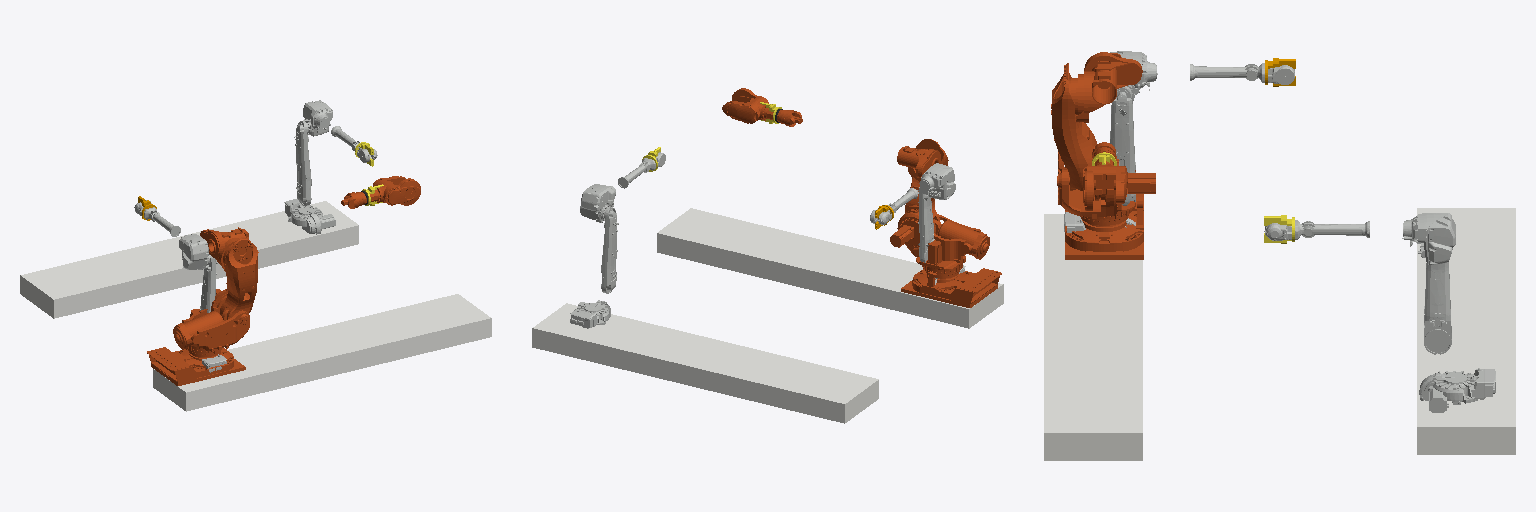
--- What the picture shows (computed from the rendered views, not written in the file) ---
Views: 3 orthographic renders of the robot side by side, from view 1: azimuth 30°, elevation 25°; view 2: azimuth 150°, elevation 25°; view 3: azimuth 270°, elevation 25°.
Robot: princeton_3rob_cell — 39 links, 38 joints (18 revolute, 2 prismatic, 18 fixed); root link world; default pose: every joint at zero.
Links seen in each view (by area): view 1: r2_axis, r1_axis, r3_link_2, r3_base_link, r3_link_1, r3_link_4, r1_link_2, r2_link_3, r3_link_3, r3_balancer_piston, r1_link_3, r2_link_2 (+1 smaller); view 2: r1_axis, r2_axis, r3_link_1, r3_base_link, r3_link_4, r1_link_2, r2_link_3, r1_link_3, r3_balancer_piston, r3_link_3, r2_link_2, r1_base_link (+1 smaller); view 3: r2_axis, r1_axis, r3_base_link, r3_link_3, r3_link_2, r3_link_1, r1_link_2, r1_link_3, r3_link_4, r2_link_2, r1_base_link, r2_link_4 (+3 smaller).
Boxes of the visible links, <box> form: r2_axis: <box>153,294,491,411</box>; r1_axis: <box>20,201,358,318</box>; r3_link_2: <box>220,238,258,322</box>; r3_base_link: <box>147,347,245,385</box>; r3_link_1: <box>182,289,249,356</box>; r3_link_4: <box>346,176,420,208</box>; r1_link_2: <box>294,121,311,205</box>; r2_link_3: <box>179,234,209,269</box>; r3_link_3: <box>200,227,248,271</box>; r3_balancer_piston: <box>173,310,228,349</box>; r1_link_3: <box>303,100,332,136</box>; r2_link_2: <box>200,254,217,312</box>; r1_axis: <box>532,303,878,423</box>; r2_axis: <box>657,208,1003,328</box>; r3_link_1: <box>890,209,982,278</box>; r3_base_link: <box>901,268,1001,307</box>; r3_link_4: <box>722,88,796,126</box>; r1_link_2: <box>601,207,618,293</box>; r2_link_3: <box>919,163,955,199</box>; r1_link_3: <box>580,184,615,222</box>; r3_balancer_piston: <box>933,219,989,259</box>; r3_link_3: <box>897,146,940,181</box>; r2_link_2: <box>917,187,934,262</box>; r1_base_link: <box>570,303,609,327</box>; r2_axis: <box>1044,214,1142,460</box>; r1_axis: <box>1417,208,1515,454</box>; r3_base_link: <box>1065,194,1143,259</box>; r3_link_3: <box>1069,52,1142,122</box>; r3_link_2: <box>1051,63,1099,200</box>; r3_link_1: <box>1057,152,1155,225</box>; r1_link_2: <box>1424,262,1451,354</box>; r1_link_3: <box>1402,213,1455,264</box>; r3_link_4: <box>1083,142,1127,210</box>; r2_link_2: <box>1110,86,1135,205</box>; r1_base_link: <box>1433,368,1495,403</box>; r2_link_4: <box>1190,63,1294,84</box>.
Bounding box of the posed robot: 5.21 × 4.63 × 2.59 m (x, y, z).
27 mesh visuals loaded from 19 distinct referenced files (17 binary STL); not drawn: 2 (reference not matched to a file when rendering).

URDF robot description (princeton_3rob_cell):
<?xml version="1.0" ?>
<!-- =================================================================================== -->
<!-- |    This document was autogenerated by xacro from princeton_3rob_cell.xacro      | -->
<!-- |    EDITING THIS FILE BY HAND IS NOT RECOMMENDED                                 | -->
<!-- =================================================================================== -->
<robot name="princeton_3rob_cell">
  <!-- Conversion were obtained from http://www.e-paint.co.uk/Lab_values.asp
       unless otherwise stated. -->
  <link name="world"/>
  <!-- -->
  <!--ROBOT 1-->
  <joint name="r1_world_joint" type="fixed">
    <parent link="world"/>
    <child link="r1_axis"/>
    <origin rpy="0.0 0.0 3.14159" xyz="3.70 3.45 0.02"/>
  </joint>
  <!-- Conversion were obtained from http://www.e-paint.co.uk/Lab_values.asp
       unless otherwise stated. -->
  <!-- Conversion were obtained from http://www.e-paint.co.uk/Lab_values.asp
       unless otherwise stated. -->
  <!-- LINEAR AXIS -->
  <!-- linear axis link list -->
  <link name="r1_axis">
    <inertial>
      <origin xyz="0.0 0.0 0.0"/>
      <mass value="120"/>
      <inertia ixx="-4.98000" ixy="-0.00000" ixz="2.70000" iyy="-5.95200" iyz="-0.00000" izz="0.82800"/>
    </inertial>
    <visual>
      <geometry>
        <mesh filename="package://princeton_cell/meshes/visual/axis.stl"/>
      </geometry>
      <material name="">
        <color rgba="0.9254902 0.9254902 0.9058824 1"/>
      </material>
    </visual>
    <collision>
      <geometry>
        <mesh filename="package://princeton_cell/meshes/collision/axis.stl"/>
      </geometry>
    </collision>
  </link>
  <link name="r1_cart">
    <inertial>
      <origin xyz="0.0 0.0 0.0"/>
      <mass value="120.00000"/>
      <inertia ixx="-4.98000" ixy="-0.00000" ixz="2.70000" iyy="-5.95200" iyz="-0.00000" izz="0.82800"/>
    </inertial>
    <visual>
      <geometry>
        <mesh filename="package://princeton_cell/meshes/visual/cart.stl"/>
      </geometry>
      <material name="">
        <color rgba="0.9254902 0.9254902 0.9058824 1"/>
      </material>
    </visual>
    <collision>
      <geometry>
        <mesh filename="package://princeton_cell/meshes/collision/cart.stl"/>
      </geometry>
    </collision>
  </link>
  <!-- linear axis joint list -->
  <joint name="r1_cart_joint" type="prismatic">
    <parent link="r1_axis"/>
    <child link="r1_cart"/>
    <origin rpy="0 0 0 " xyz="0 0 0"/>
    <axis xyz="1 0 0"/>
    <limit effort="100000" lower="0" upper="3.9" velocity="2.618"/>
    <dynamics damping="0.2" friction="0"/>
  </joint>
  <joint name="r1_abb_joint" type="fixed">
    <parent link="r1_cart"/>
    <child link="r1_base_link"/>
    <origin rpy="0 0 1.5707963267948966 " xyz="0 0 0 "/>
    <dynamics damping="0.2" friction="0"/>
  </joint>
  <!-- ARE WE MISSING A WORLD TO AXIS fixed joint? for only the abb_on_axis group?-->
  <!-- GRIPPER -->
  <!-- gripper link list -->
  <link name="r1_gripper">
    <visual>
      <geometry>
        <mesh filename="package://abb_irb4600_40_255/meshes/visual/gripper.stl"/>
      </geometry>
    </visual>
    <collision>
      <geometry>
        <mesh filename="package://abb_irb4600_40_255/meshes/collision/gripper.stl"/>
      </geometry>
    </collision>
  </link>
  <link name="r1_tcp"/>
  <!-- gripper joint list -->
  <joint name="r1_gripper_joint" type="fixed">
    <parent link="r1_tool0"/>
    <child link="r1_gripper"/>
    <origin rpy="0 0 0" xyz="0 0 0"/>
  </joint>
  <joint name="r1_tcp_joint" type="fixed">
    <origin rpy="0 0 0" xyz="0 0 0.352"/>
    <parent link="r1_gripper"/>
    <child link="r1_tcp"/>
  </joint>
  <!-- IRB4600 -->
  <!-- irb4600 link list -->
  <link name="r1_base_link">
    <inertial>
      <origin xyz="0.0 0.0 0.0"/>
      <mass value="120.00000"/>
      <inertia ixx="-4.98000" ixy="-0.00000" ixz="2.70000" iyy="-5.95200" iyz="-0.00000" izz="0.82800"/>
    </inertial>
    <visual>
      <geometry>
        <mesh filename="package://abb_irb4600_40_255/meshes/visual/base_link.stl"/>
      </geometry>
      <material name="">
        <color rgba="0.7725490 0.7803922 0.7686275 1"/>
      </material>
    </visual>
    <collision>
      <geometry>
        <mesh filename="package://abb_irb4600_40_255/meshes/collision/base_link.stl"/>
      </geometry>
    </collision>
  </link>
  <link name="r1_link_1">
    <inertial>
      <origin xyz="0.18000 0.00000 0.50000"/>
      <mass value="120.00000"/>
      <inertia ixx="-4.98000" ixy="-0.00000" ixz="2.70000" iyy="-5.95200" iyz="-0.00000" izz="0.82800"/>
    </inertial>
    <visual>
      <geometry>
        <mesh filename="package://abb_irb4600_40_255/meshes/visual/link_1.stl"/>
      </geometry>
      <material name="">
        <color rgba="0.7725490 0.7803922 0.7686275 1"/>
      </material>
    </visual>
    <collision>
      <geometry>
        <mesh filename="package://abb_irb4600_40_255/meshes/collision/link_1.stl"/>
      </geometry>
    </collision>
  </link>
  <link name="r1_link_2">
    <inertial>
      <origin xyz="0.94000 0.08000 -0.34000"/>
      <mass value="120.00000"/>
      <inertia ixx="-2.96000" ixy="2.25600" ixz="-9.58800" iyy="-18.72601" iyz="-0.81600" izz="-14.95000"/>
    </inertial>
    <visual>
      <geometry>
        <mesh filename="package://abb_irb4600_40_255/meshes/visual/link_2.stl"/>
      </geometry>
      <material name="">
        <color rgba="0.7725490 0.7803922 0.7686275 1"/>
      </material>
    </visual>
    <collision>
      <geometry>
        <mesh filename="package://abb_irb4600_40_255/meshes/collision/link_2.stl"/>
      </geometry>
    </collision>
  </link>
  <link name="r1_link_3">
    <inertial>
      <origin xyz="0.07000 -0.26600 0.08800"/>
      <mass value="120.00000"/>
      <inertia ixx="1.34500" ixy="-0.55860" ixz="0.18480" iyy="4.65068" iyz="-0.70224" izz="2.76032"/>
    </inertial>
    <visual>
      <geometry>
        <mesh filename="package://abb_irb4600_40_255/meshes/visual/link_3.stl"/>
      </geometry>
      <material name="">
        <color rgba="0.7725490 0.7803922 0.7686275 1"/>
      </material>
    </visual>
    <collision>
      <geometry>
        <mesh filename="package://abb_irb4600_40_255/meshes/collision/link_3.stl"/>
      </geometry>
    </collision>
  </link>
  <link name="r1_link_4">
    <inertial>
      <origin xyz="0.00000 0.00000 1.00000"/>
      <mass value="40.00000"/>
      <inertia ixx="-8.00000" ixy="-0.00000" ixz="-0.00000" iyy="-8.00000" iyz="-0.00000" izz="0.48200"/>
    </inertial>
    <visual>
      <geometry>
        <mesh filename="package://abb_irb4600_40_255/meshes/visual/link_4.stl"/>
      </geometry>
      <material name="">
        <color rgba="0.7725490 0.7803922 0.7686275 1"/>
      </material>
    </visual>
    <collision>
      <geometry>
        <mesh filename="package://abb_irb4600_40_255/meshes/collision/link_4.stl"/>
      </geometry>
    </collision>
  </link>
  <link name="r1_link_5">
    <inertial>
      <origin xyz="0.14000 0.00000 0.00000"/>
      <mass value="10.00000"/>
      <inertia ixx="0.04000" ixy="-0.00000" ixz="-0.00000" iyy="-0.00900" iyz="-0.00000" izz="-0.00400"/>
    </inertial>
    <visual>
      <geometry>
        <mesh filename="package://abb_irb4600_40_255/meshes/visual/link_5.stl"/>
      </geometry>
      <material name="">
        <color rgba="0.7725490 0.7803922 0.7686275 1"/>
      </material>
    </visual>
    <collision>
      <geometry>
        <mesh filename="package://abb_irb4600_40_255/meshes/collision/link_5.stl"/>
      </geometry>
    </collision>
  </link>
  <link name="r1_link_6">
    <inertial>
      <origin xyz="0.08100 -0.09100 0.33200"/>
      <mass value="5.00000"/>
      <inertia ixx="-0.29652" ixy="-0.03686" ixz="0.09396" iyy="-0.28792" iyz="-0.10556" izz="-0.04621"/>
    </inertial>
    <visual>
      <geometry>
        <mesh filename="package://abb_irb4600_40_255/meshes/visual/link_6.stl"/>
      </geometry>
      <material name="">
        <color rgba="0.1882353 0.1960784 0.2039216 1"/>
      </material>
    </visual>
    <collision>
      <geometry>
        <mesh filename="package://abb_irb4600_40_255/meshes/collision/link_6.stl"/>
      </geometry>
    </collision>
  </link>
  <link name="r1_tool0"/>
  <!-- irb4600 joint list -->
  <joint name="r1_joint_1" type="revolute">
    <parent link="r1_base_link"/>
    <child link="r1_link_1"/>
    <origin rpy="0 0 0 " xyz="0 0 0"/>
    <axis xyz="0 0 1"/>
    <limit effort="100000" lower="-3.14159" upper="3.14159" velocity="2.618"/>
    <dynamics damping="0.2" friction="0"/>
  </joint>
  <joint name="r1_joint_2" type="revolute">
    <parent link="r1_link_1"/>
    <child link="r1_link_2"/>
    <origin rpy="0 -0 0 " xyz="0.175 0 0.495"/>
    <axis xyz="0 1 0"/>
    <limit effort="100000" lower="-1.5708" upper="2.61799" velocity="2.618"/>
    <dynamics damping="0.2" friction="0"/>
  </joint>
  <joint name="r1_joint_3" type="revolute">
    <parent link="r1_link_2"/>
    <child link="r1_link_3"/>
    <origin rpy="0 -0 0 " xyz="0 0 1.095"/>
    <axis xyz="0 1 0"/>
    <limit effort="100000" lower="-3.14159" upper="1.309" velocity="2.618"/>
    <dynamics damping="0.2" friction="0"/>
  </joint>
  <joint name="r1_joint_4" type="revolute">
    <parent link="r1_link_3"/>
    <child link="r1_link_4"/>
    <origin rpy="0 -0 0 " xyz="0.332 0 0.175"/>
    <axis xyz="1 0 0"/>
    <limit effort="10000" lower="-6.98132" upper="6.98132" velocity="6.2832"/>
    <dynamics damping="0.2" friction="0"/>
  </joint>
  <joint name="r1_joint_5" type="revolute">
    <parent link="r1_link_4"/>
    <child link="r1_link_5"/>
    <origin rpy="0 -0 0 " xyz="0.939 0 0"/>
    <axis xyz="0 1 0"/>
    <limit effort="100000" lower="-2.18166" upper="2.0944" velocity="6.2832"/>
    <dynamics damping="0.2" friction="0"/>
  </joint>
  <joint name="r1_joint_6" type="revolute">
    <parent link="r1_link_5"/>
    <child link="r1_link_6"/>
    <origin rpy="0 1.57076 0 " xyz="0.135 0 0"/>
    <axis xyz="0 0 1"/>
    <limit effort="100000" lower="-6.98132" upper="6.98132" velocity="7.854"/>
    <dynamics damping="0.2" friction="0"/>
  </joint>
  <joint name="r1_joint_6-tool0" type="fixed">
    <parent link="r1_link_6"/>
    <child link="r1_tool0"/>
    <origin rpy="0 0 0" xyz="0 0 0"/>
  </joint>
  <!-- -->
  <!-- IRB4600 base_link to ABB World Coordinates transform -->
  <link name="r1_base"/>
  <joint name="r1_base_link-base" type="fixed">
    <origin rpy="0 0 0" xyz="0 0 0"/>
    <parent link="r1_base_link"/>
    <child link="r1_base"/>
  </joint>
  <!-- -->
  <!--ROBOT 2-->
  <joint name="r2_world_joint" type="fixed">
    <parent link="world"/>
    <child link="r2_axis"/>
    <origin rpy="0.0 0.0 0.0" xyz="0.0 0.0 0.0"/>
  </joint>
  <!-- Conversion were obtained from http://www.e-paint.co.uk/Lab_values.asp
       unless otherwise stated. -->
  <!-- Conversion were obtained from http://www.e-paint.co.uk/Lab_values.asp
       unless otherwise stated. -->
  <!-- LINEAR AXIS -->
  <!-- linear axis link list -->
  <link name="r2_axis">
    <inertial>
      <origin xyz="0.0 0.0 0.0"/>
      <mass value="120"/>
      <inertia ixx="-4.98000" ixy="-0.00000" ixz="2.70000" iyy="-5.95200" iyz="-0.00000" izz="0.82800"/>
    </inertial>
    <visual>
      <geometry>
        <mesh filename="package://princeton_cell/meshes/visual/axis.stl"/>
      </geometry>
      <material name="">
        <color rgba="0.9254902 0.9254902 0.9058824 1"/>
      </material>
    </visual>
    <collision>
      <geometry>
        <mesh filename="package://princeton_cell/meshes/collision/axis.stl"/>
      </geometry>
    </collision>
  </link>
  <link name="r2_cart">
    <inertial>
      <origin xyz="0.0 0.0 0.0"/>
      <mass value="120.00000"/>
      <inertia ixx="-4.98000" ixy="-0.00000" ixz="2.70000" iyy="-5.95200" iyz="-0.00000" izz="0.82800"/>
    </inertial>
    <visual>
      <geometry>
        <mesh filename="package://princeton_cell/meshes/visual/cart.stl"/>
      </geometry>
      <material name="">
        <color rgba="0.9254902 0.9254902 0.9058824 1"/>
      </material>
    </visual>
    <collision>
      <geometry>
        <mesh filename="package://princeton_cell/meshes/collision/cart.stl"/>
      </geometry>
    </collision>
  </link>
  <!-- linear axis joint list -->
  <joint name="r2_cart_joint" type="prismatic">
    <parent link="r2_axis"/>
    <child link="r2_cart"/>
    <origin rpy="0 0 0 " xyz="0 0 0"/>
    <axis xyz="1 0 0"/>
    <limit effort="100000" lower="0" upper="3.9" velocity="2.618"/>
    <dynamics damping="0.2" friction="0"/>
  </joint>
  <joint name="r2_abb_joint" type="fixed">
    <parent link="r2_cart"/>
    <child link="r2_base_link"/>
    <origin rpy="0 0 1.5707963267948966 " xyz="0 0 0 "/>
    <dynamics damping="0.2" friction="0"/>
  </joint>
  <!-- ARE WE MISSING A WORLD TO AXIS fixed joint? for only the abb_on_axis group?-->
  <!-- GRIPPER -->
  <!-- gripper link list -->
  <link name="r2_gripper">
    <visual>
      <geometry>
        <mesh filename="package://abb_irb4600_40_255/meshes/visual/gripper.stl"/>
      </geometry>
    </visual>
    <collision>
      <geometry>
        <mesh filename="package://abb_irb4600_40_255/meshes/collision/gripper.stl"/>
      </geometry>
    </collision>
  </link>
  <link name="r2_tcp"/>
  <!-- gripper joint list -->
  <joint name="r2_gripper_joint" type="fixed">
    <parent link="r2_tool0"/>
    <child link="r2_gripper"/>
    <origin rpy="0 0 0" xyz="0 0 0"/>
  </joint>
  <joint name="r2_tcp_joint" type="fixed">
    <origin rpy="0 0 0" xyz="0 0 0.352"/>
    <parent link="r2_gripper"/>
    <child link="r2_tcp"/>
  </joint>
  <!-- IRB4600 -->
  <!-- irb4600 link list -->
  <link name="r2_base_link">
    <inertial>
      <origin xyz="0.0 0.0 0.0"/>
      <mass value="120.00000"/>
      <inertia ixx="-4.98000" ixy="-0.00000" ixz="2.70000" iyy="-5.95200" iyz="-0.00000" izz="0.82800"/>
    </inertial>
    <visual>
      <geometry>
        <mesh filename="package://abb_irb4600_40_255/meshes/visual/base_link.stl"/>
      </geometry>
      <material name="">
        <color rgba="0.7725490 0.7803922 0.7686275 1"/>
      </material>
    </visual>
    <collision>
      <geometry>
        <mesh filename="package://abb_irb4600_40_255/meshes/collision/base_link.stl"/>
      </geometry>
    </collision>
  </link>
  <link name="r2_link_1">
    <inertial>
      <origin xyz="0.18000 0.00000 0.50000"/>
      <mass value="120.00000"/>
      <inertia ixx="-4.98000" ixy="-0.00000" ixz="2.70000" iyy="-5.95200" iyz="-0.00000" izz="0.82800"/>
    </inertial>
    <visual>
      <geometry>
        <mesh filename="package://abb_irb4600_40_255/meshes/visual/link_1.stl"/>
      </geometry>
      <material name="">
        <color rgba="0.7725490 0.7803922 0.7686275 1"/>
      </material>
    </visual>
    <collision>
      <geometry>
        <mesh filename="package://abb_irb4600_40_255/meshes/collision/link_1.stl"/>
      </geometry>
    </collision>
  </link>
  <link name="r2_link_2">
    <inertial>
      <origin xyz="0.94000 0.08000 -0.34000"/>
      <mass value="120.00000"/>
      <inertia ixx="-2.96000" ixy="2.25600" ixz="-9.58800" iyy="-18.72601" iyz="-0.81600" izz="-14.95000"/>
    </inertial>
    <visual>
      <geometry>
        <mesh filename="package://abb_irb4600_40_255/meshes/visual/link_2.stl"/>
      </geometry>
      <material name="">
        <color rgba="0.7725490 0.7803922 0.7686275 1"/>
      </material>
    </visual>
    <collision>
      <geometry>
        <mesh filename="package://abb_irb4600_40_255/meshes/collision/link_2.stl"/>
      </geometry>
    </collision>
  </link>
  <link name="r2_link_3">
    <inertial>
      <origin xyz="0.07000 -0.26600 0.08800"/>
      <mass value="120.00000"/>
      <inertia ixx="1.34500" ixy="-0.55860" ixz="0.18480" iyy="4.65068" iyz="-0.70224" izz="2.76032"/>
    </inertial>
    <visual>
      <geometry>
        <mesh filename="package://abb_irb4600_40_255/meshes/visual/link_3.stl"/>
      </geometry>
      <material name="">
        <color rgba="0.7725490 0.7803922 0.7686275 1"/>
      </material>
    </visual>
    <collision>
      <geometry>
        <mesh filename="package://abb_irb4600_40_255/meshes/collision/link_3.stl"/>
      </geometry>
    </collision>
  </link>
  <link name="r2_link_4">
    <inertial>
      <origin xyz="0.00000 0.00000 1.00000"/>
      <mass value="40.00000"/>
      <inertia ixx="-8.00000" ixy="-0.00000" ixz="-0.00000" iyy="-8.00000" iyz="-0.00000" izz="0.48200"/>
    </inertial>
    <visual>
      <geometry>
        <mesh filename="package://abb_irb4600_40_255/meshes/visual/link_4.stl"/>
      </geometry>
      <material name="">
        <color rgba="0.7725490 0.7803922 0.7686275 1"/>
      </material>
    </visual>
    <collision>
      <geometry>
        <mesh filename="package://abb_irb4600_40_255/meshes/collision/link_4.stl"/>
      </geometry>
    </collision>
  </link>
  <link name="r2_link_5">
    <inertial>
      <origin xyz="0.14000 0.00000 0.00000"/>
      <mass value="10.00000"/>
      <inertia ixx="0.04000" ixy="-0.00000" ixz="-0.00000" iyy="-0.00900" iyz="-0.00000" izz="-0.00400"/>
    </inertial>
    <visual>
      <geometry>
        <mesh filename="package://abb_irb4600_40_255/meshes/visual/link_5.stl"/>
      </geometry>
      <material name="">
        <color rgba="0.7725490 0.7803922 0.7686275 1"/>
      </material>
    </visual>
    <collision>
      <geometry>
        <mesh filename="package://abb_irb4600_40_255/meshes/collision/link_5.stl"/>
      </geometry>
    </collision>
  </link>
  <link name="r2_link_6">
    <inertial>
      <origin xyz="0.08100 -0.09100 0.33200"/>
      <mass value="5.00000"/>
      <inertia ixx="-0.29652" ixy="-0.03686" ixz="0.09396" iyy="-0.28792" iyz="-0.10556" izz="-0.04621"/>
    </inertial>
    <visual>
      <geometry>
        <mesh filename="package://abb_irb4600_40_255/meshes/visual/link_6.stl"/>
      </geometry>
      <material name="">
        <color rgba="0.1882353 0.1960784 0.2039216 1"/>
      </material>
    </visual>
    <collision>
      <geometry>
        <mesh filename="package://abb_irb4600_40_255/meshes/collision/link_6.stl"/>
      </geometry>
    </collision>
  </link>
  <link name="r2_tool0"/>
  <!-- irb4600 joint list -->
  <joint name="r2_joint_1" type="revolute">
    <parent link="r2_base_link"/>
    <child link="r2_link_1"/>
    <origin rpy="0 0 0 " xyz="0 0 0"/>
    <axis xyz="0 0 1"/>
    <limit effort="100000" lower="-3.14159" upper="3.14159" velocity="2.618"/>
    <dynamics damping="0.2" friction="0"/>
  </joint>
  <joint name="r2_joint_2" type="revolute">
    <parent link="r2_link_1"/>
    <child link="r2_link_2"/>
    <origin rpy="0 -0 0 " xyz="0.175 0 0.495"/>
    <axis xyz="0 1 0"/>
    <limit effort="100000" lower="-1.5708" upper="2.61799" velocity="2.618"/>
    <dynamics damping="0.2" friction="0"/>
  </joint>
  <joint name="r2_joint_3" type="revolute">
    <parent link="r2_link_2"/>
    <child link="r2_link_3"/>
    <origin rpy="0 -0 0 " xyz="0 0 1.095"/>
    <axis xyz="0 1 0"/>
    <limit effort="100000" lower="-3.14159" upper="1.309" velocity="2.618"/>
    <dynamics damping="0.2" friction="0"/>
  </joint>
  <joint name="r2_joint_4" type="revolute">
    <parent link="r2_link_3"/>
    <child link="r2_link_4"/>
    <origin rpy="0 -0 0 " xyz="0.332 0 0.175"/>
    <axis xyz="1 0 0"/>
    <limit effort="10000" lower="-6.98132" upper="6.98132" velocity="6.2832"/>
    <dynamics damping="0.2" friction="0"/>
  </joint>
  <joint name="r2_joint_5" type="revolute">
    <parent link="r2_link_4"/>
    <child link="r2_link_5"/>
    <origin rpy="0 -0 0 " xyz="0.939 0 0"/>
    <axis xyz="0 1 0"/>
    <limit effort="100000" lower="-2.18166" upper="2.0944" velocity="6.2832"/>
    <dynamics damping="0.2" friction="0"/>
  </joint>
  <joint name="r2_joint_6" type="revolute">
    <parent link="r2_link_5"/>
    <child link="r2_link_6"/>
    <origin rpy="0 1.57076 0 " xyz="0.135 0 0"/>
    <axis xyz="0 0 1"/>
    <limit effort="100000" lower="-6.98132" upper="6.98132" velocity="7.854"/>
    <dynamics damping="0.2" friction="0"/>
  </joint>
  <joint name="r2_joint_6-tool0" type="fixed">
    <parent link="r2_link_6"/>
    <child link="r2_tool0"/>
    <origin rpy="0 0 0" xyz="0 0 0"/>
  </joint>
  <!-- -->
  <!-- IRB4600 base_link to ABB World Coordinates transform -->
  <link name="r2_base"/>
  <joint name="r2_base_link-base" type="fixed">
    <origin rpy="0 0 0" xyz="0 0 0"/>
    <parent link="r2_base_link"/>
    <child link="r2_base"/>
  </joint>
  <!-- -->
  <!--ROBOT 3-->
  <joint name="r3_world_joint" type="fixed">
    <parent link="world"/>
    <child link="r3_base_link"/>
    <origin rpy="0.0 0.0 0.0" xyz="0.0 0.0 0.0"/>
  </joint>
  <!-- GRIPPER -->
  <!-- gripper link list -->
  <link name="r3_gripper">
    <visual>
      <geometry>
        <mesh filename="package://abb_irb7600_400_255/meshes/visual/gripper.stl"/>
      </geometry>
    </visual>
    <collision>
      <geometry>
        <mesh filename="package://abb_irb7600_400_255/meshes/collision/gripper.stl"/>
      </geometry>
    </collision>
  </link>
  <link name="r3_tcp"/>
  <!-- gripper joint list -->
  <joint name="r3_gripper_joint" type="fixed">
    <parent link="r3_tool0"/>
    <child link="r3_gripper"/>
    <origin rpy="0 0 0" xyz="0 0 0"/>
  </joint>
  <joint name="r3_tcp_joint" type="fixed">
    <origin rpy="0 0 0" xyz="0 0 0.352"/>
    <parent link="r3_gripper"/>
    <child link="r3_tcp"/>
  </joint>
  <!-- IRB7600-->
  <!-- irb7600 link list -->
  <link name="r3_base_link">
    <visual>
      <origin rpy="0 0 0" xyz="0 0 0"/>
      <geometry>
        <mesh filename="package://abb_irb7600_400_255/meshes/visual/base_link.stl"/>
      </geometry>
      <material name="">
        <color rgba="0.7372549 0.3490196 0.1607843 1"/>
      </material>
    </visual>
    <collision>
      <geometry>
        <mesh filename="package://abb_irb7600_400_255/meshes/collision/base_link.stl"/>
      </geometry>
      <material name="">
        <color rgba="0.7372549 0.3490196 0.1607843 1"/>
      </material>
    </collision>
  </link>
  <link name="r3_link_1">
    <visual>
      <origin rpy="0 0 0" xyz="0 0 0"/>
      <geometry>
        <mesh filename="package://abb_irb7600_400_255/meshes/visual/link_1.stl"/>
      </geometry>
      <material name="">
        <color rgba="0.7372549 0.3490196 0.1607843 1"/>
      </material>
    </visual>
    <collision>
      <origin rpy="0 0 0" xyz="0 0 0"/>
      <geometry>
        <mesh filename="package://abb_irb7600_400_255/meshes/collision/link_1.stl"/>
      </geometry>
      <material name="">
        <color rgba="1 1 0 1"/>
      </material>
    </collision>
  </link>
  <link name="r3_link_2">
    <visual>
      <origin rpy="0 0 0" xyz="0 0 0"/>
      <geometry>
        <mesh filename="package://abb_irb7600_400_255/meshes/visual/link_2.stl"/>
      </geometry>
      <material name="">
        <color rgba="0.7372549 0.3490196 0.1607843 1"/>
      </material>
    </visual>
    <collision>
      <origin rpy="0 0 0" xyz="0 0 0"/>
      <geometry>
        <mesh filename="package://abb_irb7600_400_255/meshes/collision/link_2.stl"/>
      </geometry>
      <material name="">
        <color rgba="1 1 0 1"/>
      </material>
    </collision>
  </link>
  <link name="r3_link_3">
    <visual>
      <origin rpy="0 0 0" xyz="0 0 0"/>
      <geometry>
        <mesh filename="package://abb_irb7600_400_255/meshes/visual/link_3.stl"/>
      </geometry>
      <material name="">
        <color rgba="0.7372549 0.3490196 0.1607843 1"/>
      </material>
    </visual>
    <collision>
      <origin rpy="0 0 0" xyz="0 0 0"/>
      <geometry>
        <mesh filename="package://abb_irb7600_400_255/meshes/collision/link_3.stl"/>
      </geometry>
      <material name="">
        <color rgba="1 1 0 1"/>
      </material>
    </collision>
  </link>
  <link name="r3_link_4">
    <visual>
      <origin rpy="0 0 0" xyz="2.012 0 0"/>
      <geometry>
        <mesh filename="package://abb_irb7600_400_255/meshes/visual/link_4.stl"/>
      </geometry>
      <material name="">
        <color rgba="0.7372549 0.3490196 0.1607843 1"/>
      </material>
    </visual>
    <collision>
      <origin rpy="0 0 0" xyz="2.012 0 0"/>
      <geometry>
        <mesh filename="package://abb_irb7600_400_255/meshes/collision/link_4.stl"/>
      </geometry>
      <material name="">
        <color rgba="1 1 0 1"/>
      </material>
    </collision>
  </link>
  <link name="r3_link_5">
    <visual>
      <origin rpy="0 0 0" xyz="0 0 0"/>
      <geometry>
        <mesh filename="package://abb_irb7600_400_255/meshes/visual/link_5.stl"/>
      </geometry>
      <material name="">
        <color rgba="0.7372549 0.3490196 0.1607843 1"/>
      </material>
    </visual>
    <collision>
      <origin rpy="0 0 0" xyz="0 0 0"/>
      <geometry>
        <mesh filename="package://abb_irb7600_400_255/meshes/collision/link_5.stl"/>
      </geometry>
      <material name="">
        <color rgba="1 1 0 1"/>
      </material>
    </collision>
  </link>
  <link name="r3_link_6">
    <visual>
      <origin rpy="0 0 0" xyz="0 0 0"/>
      <geometry>
        <mesh filename="package://abb_irb7600_400_255/meshes/visual/link_6.stl"/>
      </geometry>
      <material name="">
        <color rgba="0.1882353 0.1960784 0.2039216 1"/>
      </material>
    </visual>
    <collision>
      <origin rpy="0 0 0" xyz="0 0 0"/>
      <geometry>
        <mesh filename="package://abb_irb7600_400_255/meshes/collision/link_6.stl"/>
      </geometry>
      <material name="">
        <color rgba="0.1882353 0.1960784 0.2039216 1"/>
      </material>
    </collision>
  </link>
  <link name="r3_balancer_piston">
    <visual>
      <origin rpy="0 0 0" xyz="0 0 0"/>
      <geometry>
        <mesh filename="package://abb_irb7600_400_255/meshes/visual/balancer_piston.stl"/>
      </geometry>
      <material name="">
        <color rgba="0.7372549 0.3490196 0.1607843 1"/>
      </material>
    </visual>
    <collision>
      <origin rpy="0 0 0" xyz="0 0 0"/>
      <geometry>
        <mesh filename="package://abb_irb7600_400_255/meshes/collision/balancer_piston.stl"/>
      </geometry>
      <material name="">
        <color rgba="1 1 0 1"/>
      </material>
    </collision>
  </link>
  <link name="r3_tool0"/>
  <!-- end of link list -->
  <!-- joint list -->
  <joint name="r3_joint_1" type="revolute">
    <origin rpy="0 0 0" xyz="0 0 0"/>
    <parent link="r3_base_link"/>
    <child link="r3_link_1"/>
    <axis xyz="0 0 1"/>
    <limit effort="0" lower="-3.141592653589793" upper="3.141592653589793" velocity="1.7453292519943295"/>
  </joint>
  <joint name="r3_joint_2" type="revolute">
    <origin rpy="0 0 0" xyz="0.410 0 0.780"/>
    <parent link="r3_link_1"/>
    <child link="r3_link_2"/>
    <axis xyz="0 1 0"/>
    <limit effort="0" lower="-1.0471975511965976" upper="1.4835298641951802" velocity="1.0471975511965976"/>
  </joint>
  <joint name="r3_joint_3" type="revolute">
    <origin rpy="0 0 0" xyz="0 0 1.075"/>
    <parent link="r3_link_2"/>
    <child link="r3_link_3"/>
    <axis xyz="0 1 0"/>
    <limit effort="0" lower="-3.141592653589793" upper="1.0471975511965976" velocity="1.0471975511965976"/>
  </joint>
  <joint name="r3_joint_4" type="revolute">
    <origin rpy="0 0 0" xyz="0 0 0.165"/>
    <parent link="r3_link_3"/>
    <child link="r3_link_4"/>
    <axis xyz="1 0 0"/>
    <limit effort="0" lower="-5.235987755982989" upper="5.235987755982989" velocity="1.7453292519943295"/>
  </joint>
  <joint name="r3_joint_5" type="revolute">
    <origin rpy="0 0 0" xyz="2.012 0 0"/>
    <parent link="r3_link_4"/>
    <child link="r3_link_5"/>
    <axis xyz="0 1 0"/>
    <limit effort="0" lower="-1.7453292519943295" upper="1.7453292519943295" velocity="1.7453292519943295"/>
  </joint>
  <joint name="r3_joint_6" type="revolute">
    <origin rpy="0 0 0" xyz="0.250 0 0"/>
    <parent link="r3_link_5"/>
    <child link="r3_link_6"/>
    <axis xyz="1 0 0"/>
    <limit effort="0" lower="-6.283185307179586" upper="6.283185307179586" velocity="3.3161255787892263"/>
  </joint>
  <joint name="r3_joint_balancer_piston" type="fixed">
    <origin rpy="0 0 0" xyz="-0.380 0 0.6545"/>
    <parent link="r3_link_1"/>
    <child link="r3_balancer_piston"/>
  </joint>
  <joint name="r3_joint_6-tool0" type="fixed">
    <origin rpy="0 1.5707963267948966 0" xyz="0 0 0"/>
    <parent link="r3_link_6"/>
    <child link="r3_tool0"/>
  </joint>
  <!-- -->
  <!-- ROS-Industrial 'base' frame: base_link to ABB World Coordinates transform -->
  <link name="r3_base"/>
  <joint name="r3_base_link-base" type="fixed">
    <origin rpy="0 0 0" xyz="0 0 0"/>
    <parent link="r3_base_link"/>
    <child link="r3_base"/>
  </joint>
</robot>
